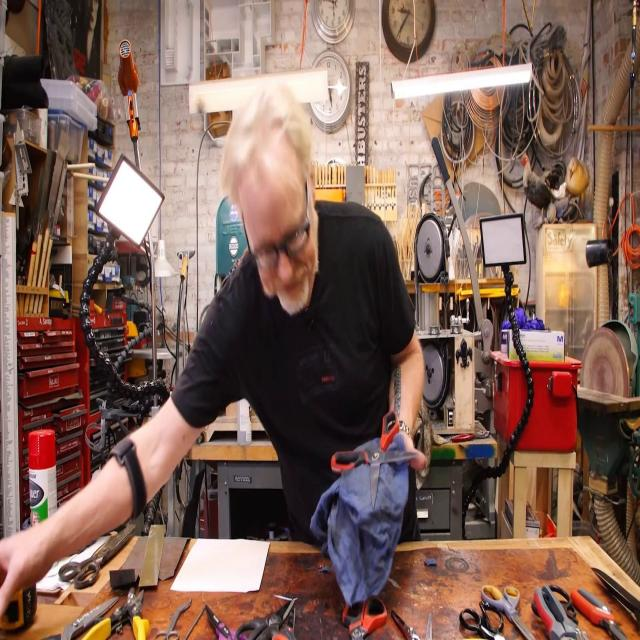scissor: (330, 409, 418, 510), (60, 523, 134, 590), (482, 582, 537, 640), (235, 598, 296, 640), (343, 589, 387, 640), (460, 597, 504, 640), (152, 597, 192, 640), (204, 603, 250, 640), (274, 605, 297, 640)
